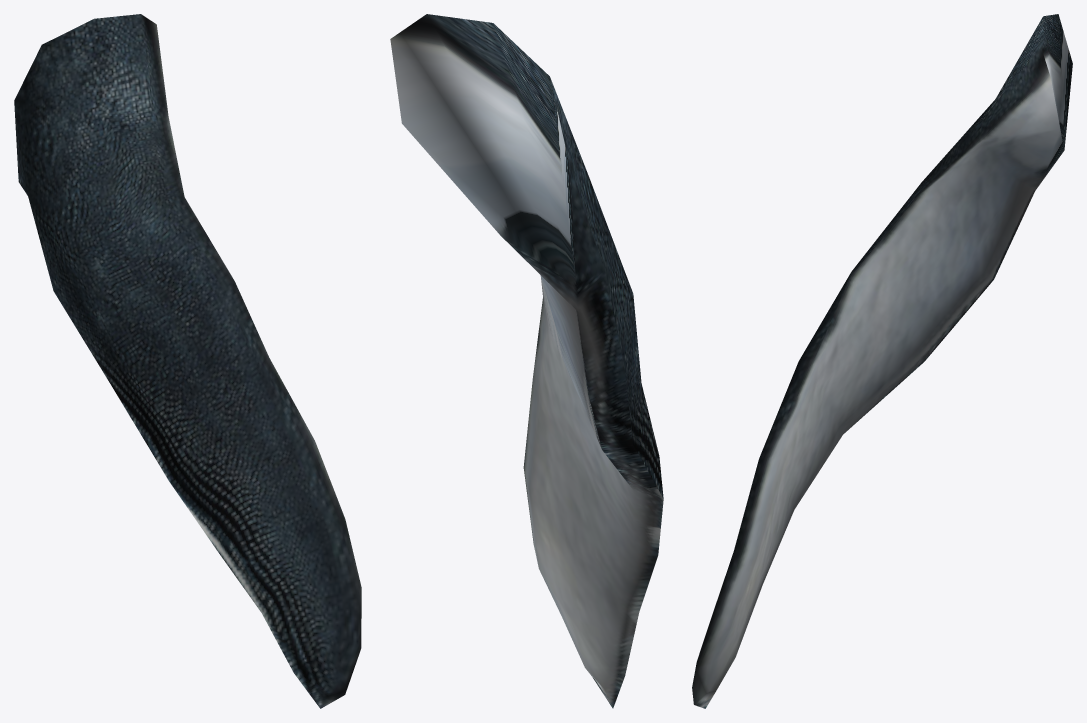
File: penguinAlaIzq.obj
3 renders of one model, left to right at view 1: azimuth 30°, elevation 25°; view 2: azimuth 150°, elevation 25°; view 3: azimuth 270°, elevation 25°, orthographic. The views are drawn at different scales.
Visible parts, largest first — view 1: penguin.012_penguin.013; view 2: penguin.012_penguin.013; view 3: penguin.012_penguin.013.
Boxes of the visible parts, x1,y1,x2,y2 form: penguin.012_penguin.013: [14, 14, 361, 708]; penguin.012_penguin.013: [390, 14, 663, 708]; penguin.012_penguin.013: [692, 14, 1072, 708].
Size of the model in its own units: 0.4679 by 1.39 by 0.734.
Materials: 1 (1 with a texture image).
